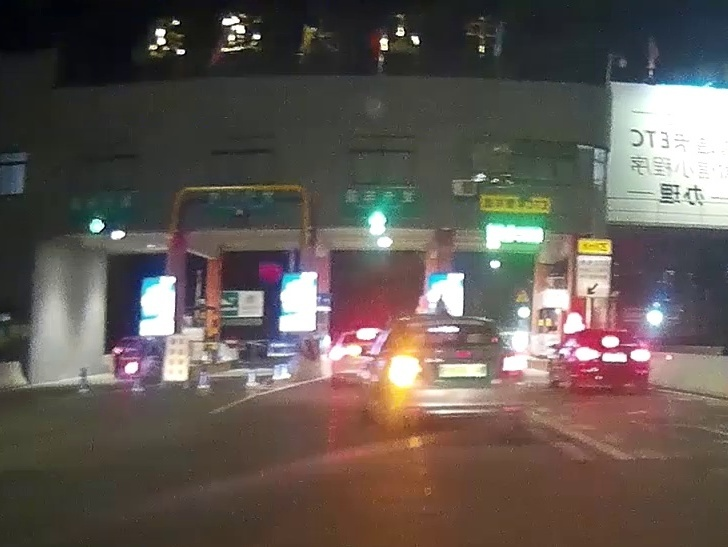L_light: (388, 354, 423, 387), (575, 347, 600, 361)
R_light: (502, 354, 526, 372), (630, 348, 648, 361)
T_light: (427, 325, 459, 333), (602, 338, 619, 344)
night-brake: (574, 327, 649, 395)
night-left: (384, 315, 527, 431)
